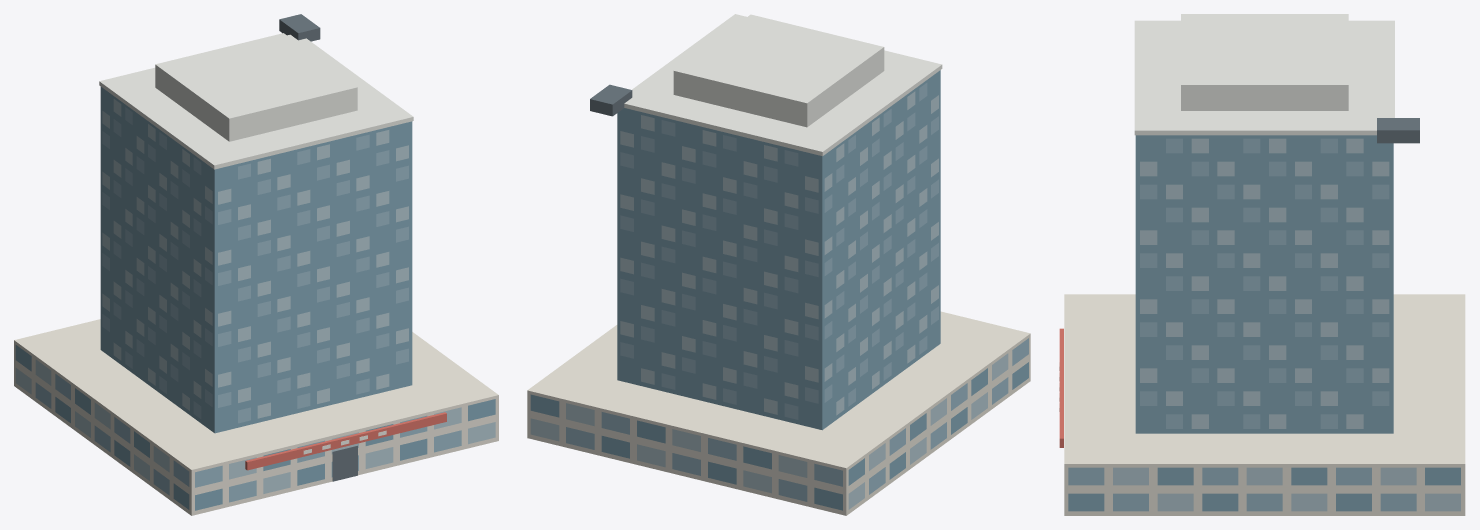
Rendered from sky-building-3.glb.
3 renders of one model, left to right at view 1: azimuth 30°, elevation 25°; view 2: azimuth 150°, elevation 25°; view 3: azimuth 270°, elevation 25°, orthographic. The views are drawn at different scales.
Size of the model in its own units: 14.02 by 14.7 by 14.18.
